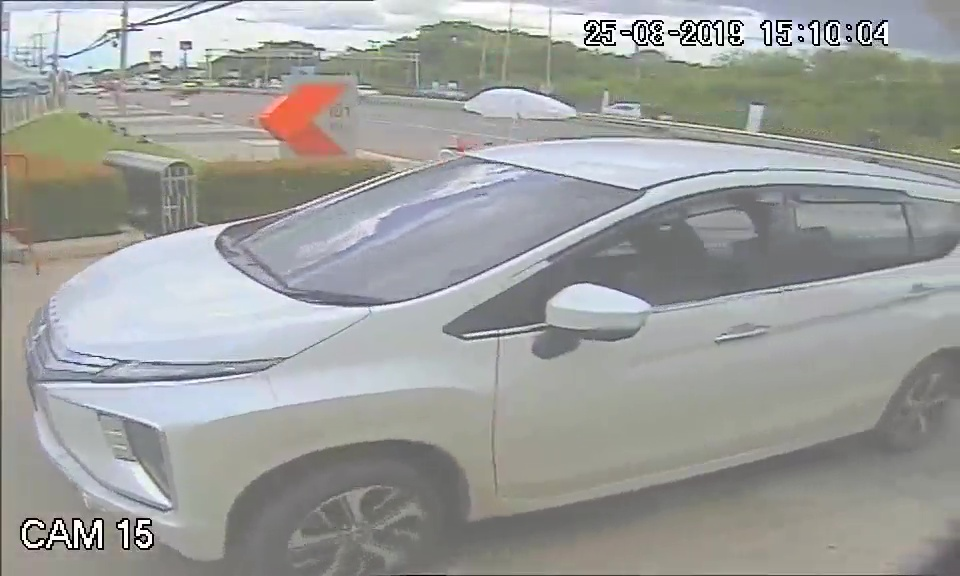pickup: (24, 128, 907, 503)
